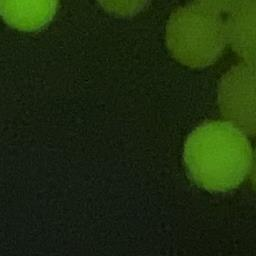negative: (165, 6, 231, 70), (218, 58, 256, 138), (228, 1, 256, 66)
positive: (180, 117, 252, 193), (0, 0, 61, 35), (97, 0, 149, 19)
